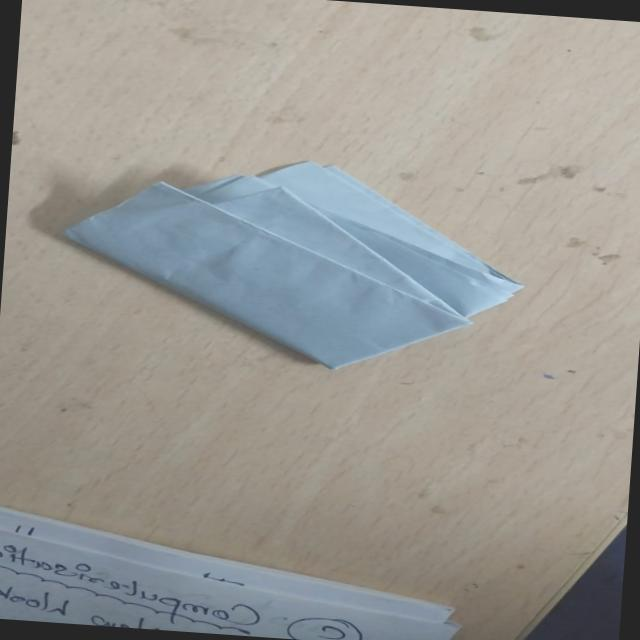Paper - Recyclable: (52, 142, 534, 384)
